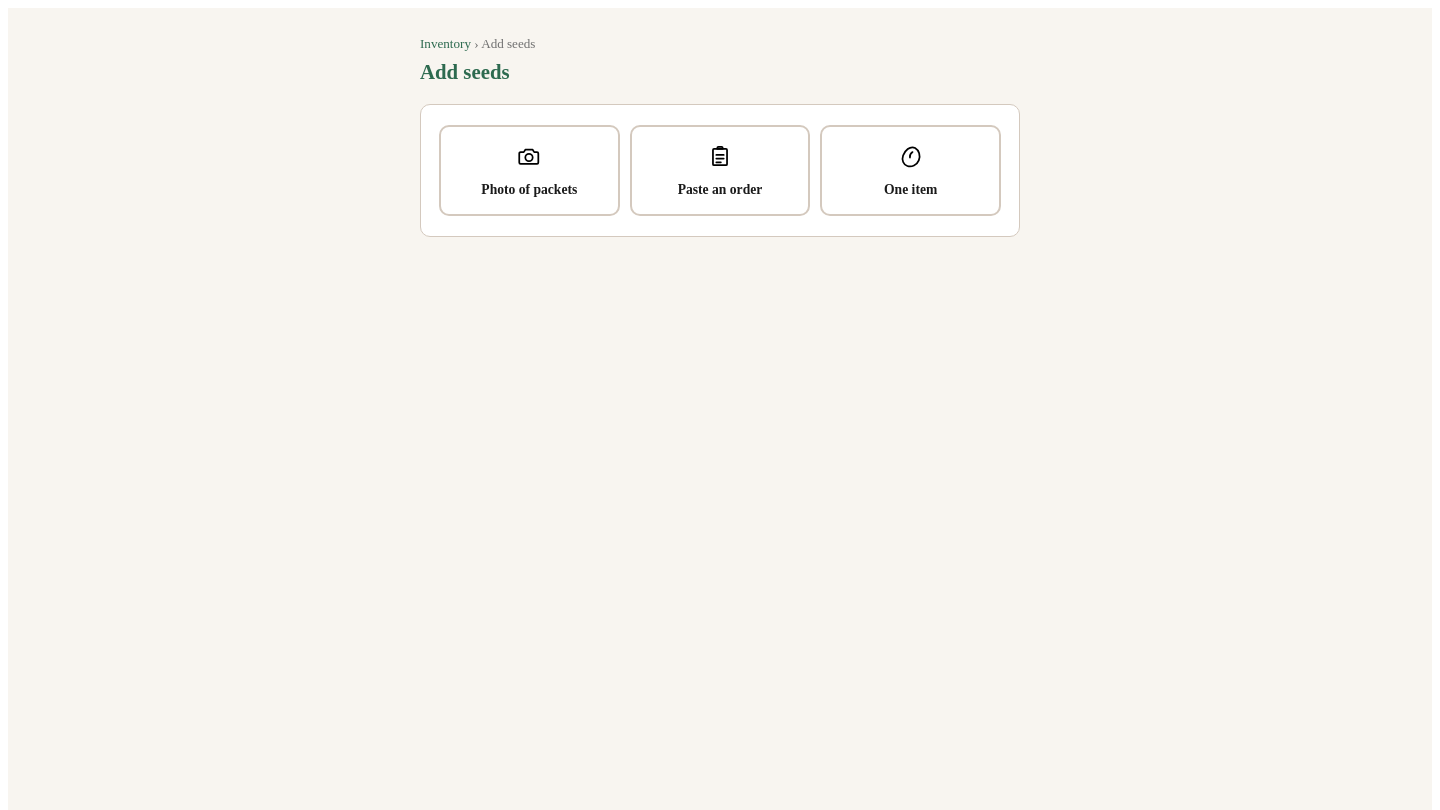
Test: AddSeeds — paste extract wire › 413 shows the photo-too-large banner and 502 a generic retry banner
Click the radio button labelled "Paste an order" at coordinates (720, 170), box [630,125,810,216]
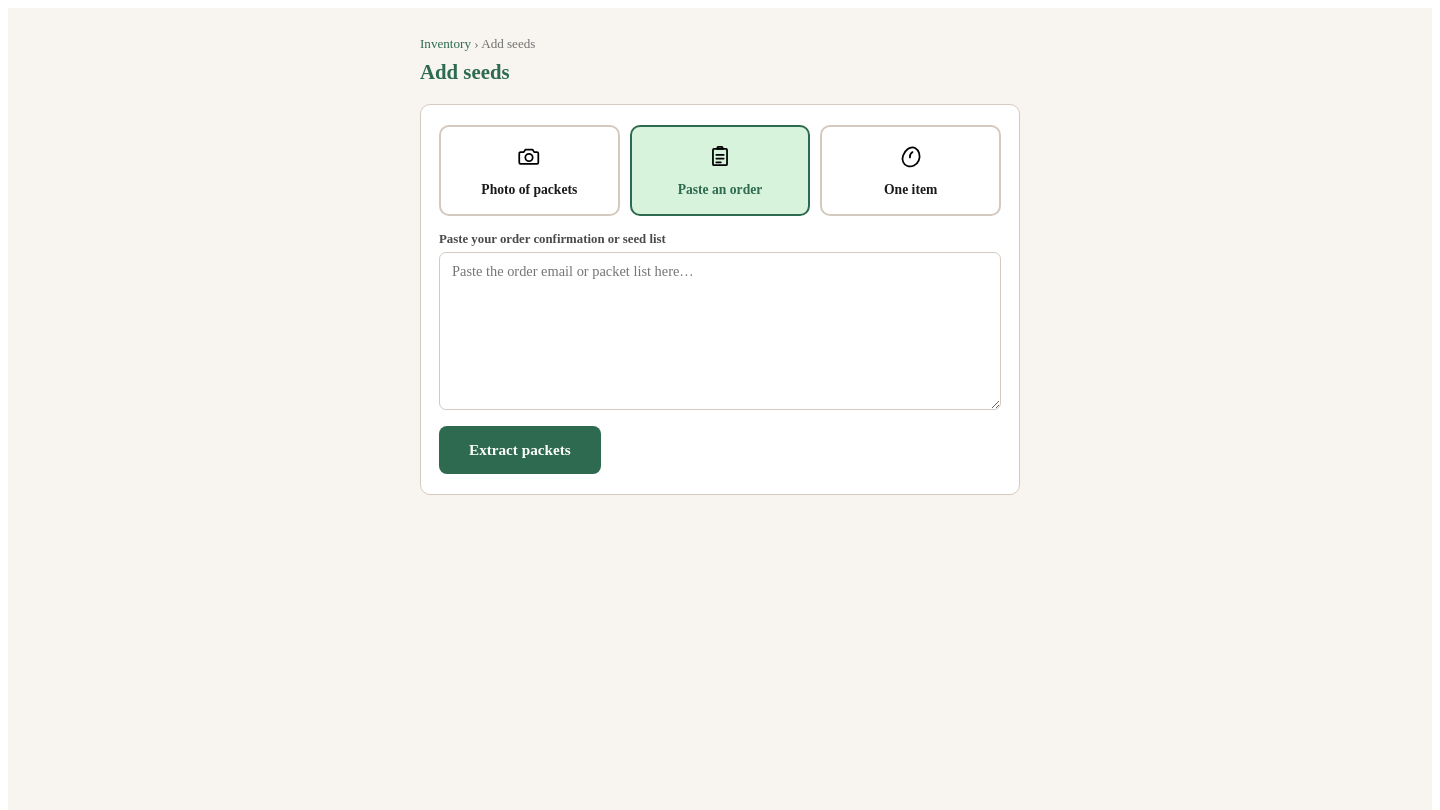
Type "Order #123: Shirley Single Blend Corn Poppy Seeds x1 $1.35" into the text box at coordinates (720, 331), box [439,252,1001,410]
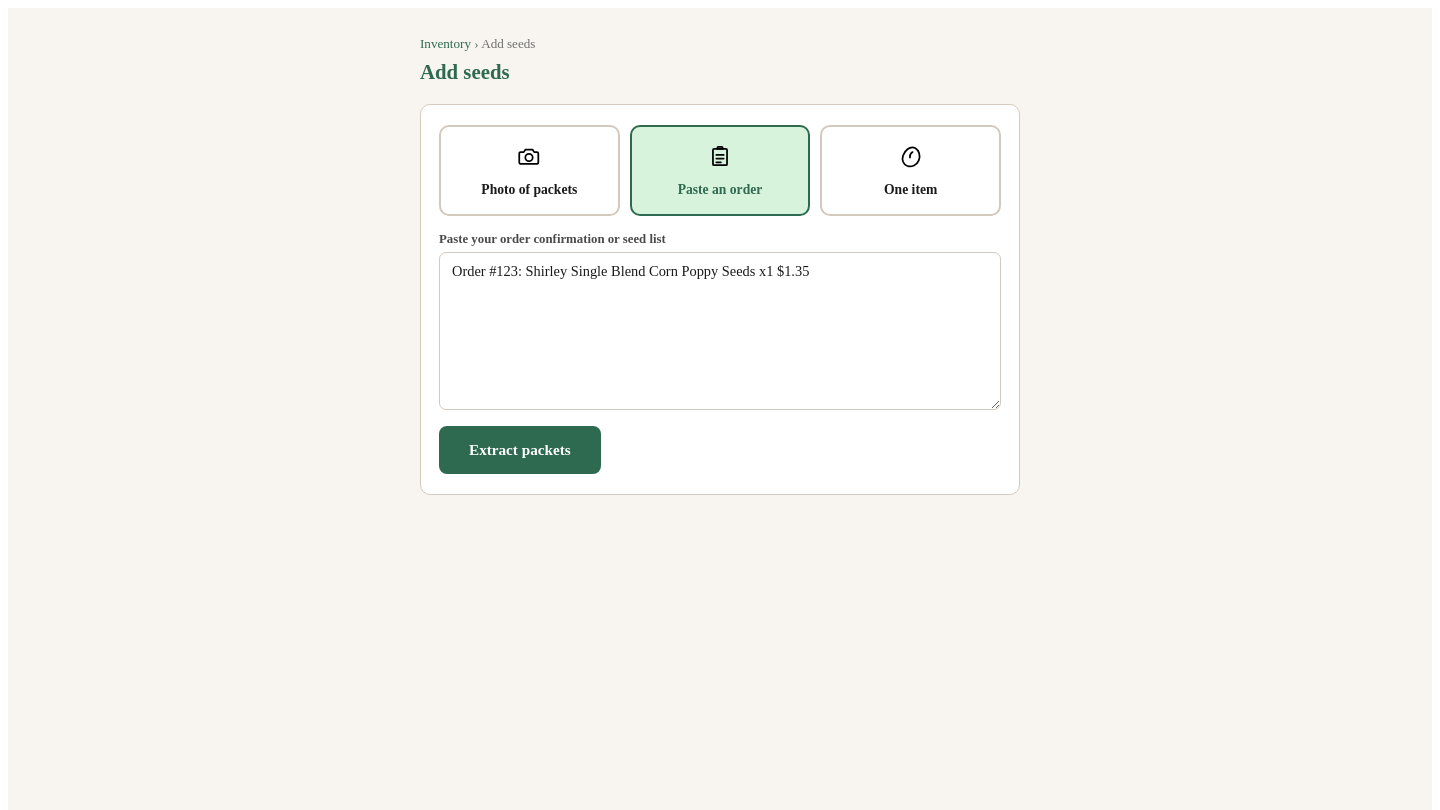
Click the button "Extract packets" at coordinates (520, 450), box [439,426,601,474]
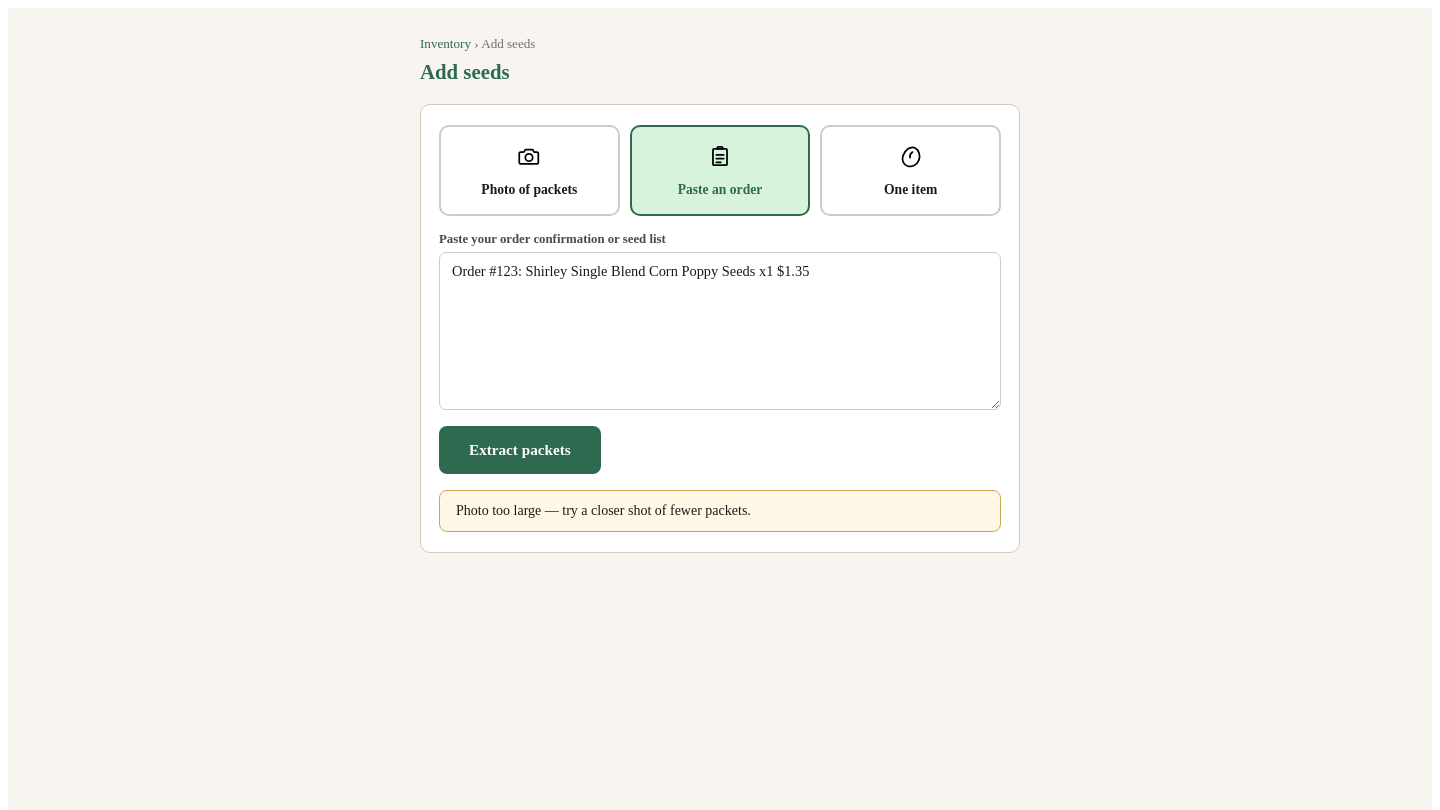
Expected: the text "Photo too large — try a closer shot of fewer packets." is shown, [439,490,1001,532]
Click the button "Extract packets" at coordinates (520, 450), box [439,426,601,474]
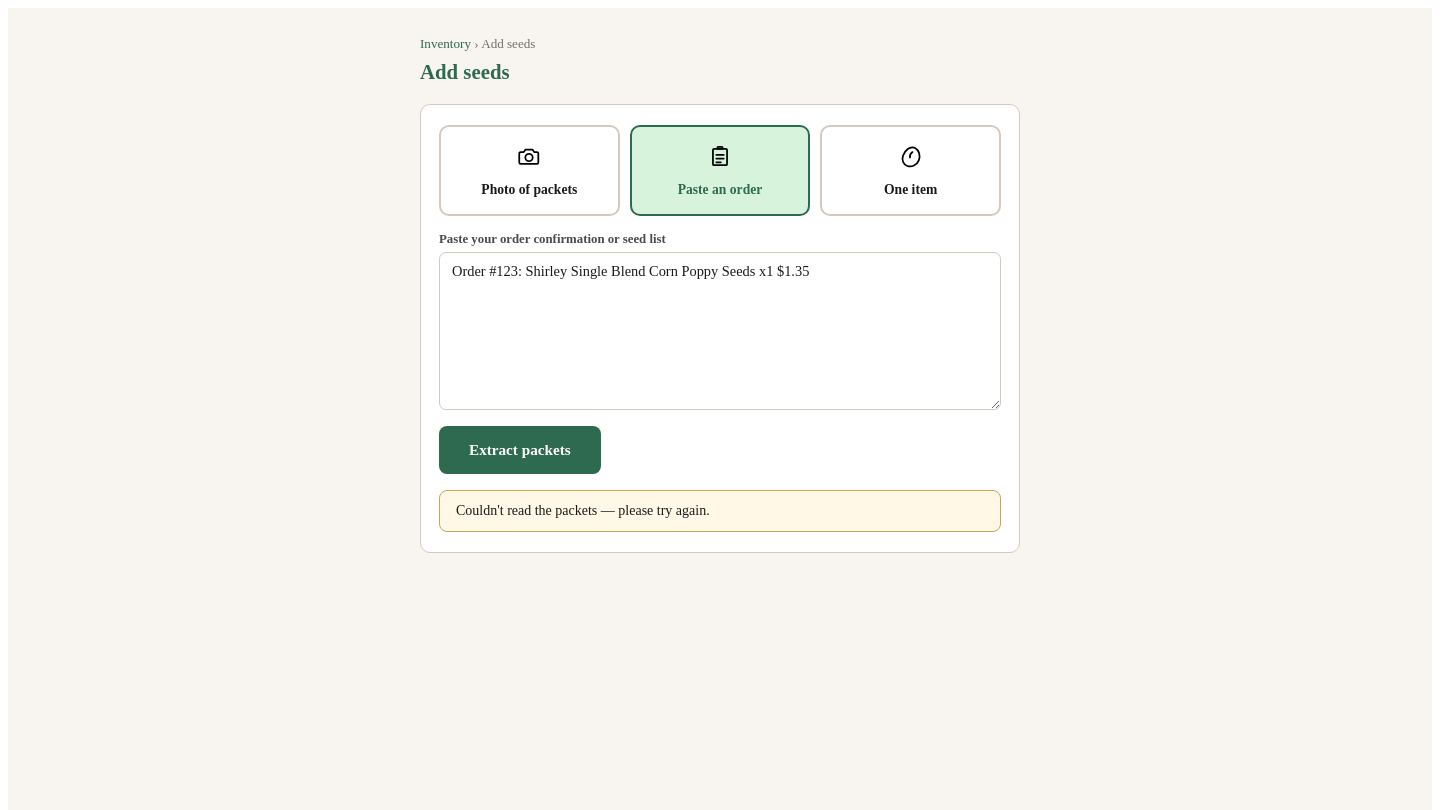
Expected: the text "Couldn't read the packets — please try again." is shown, [439,490,1001,532]
